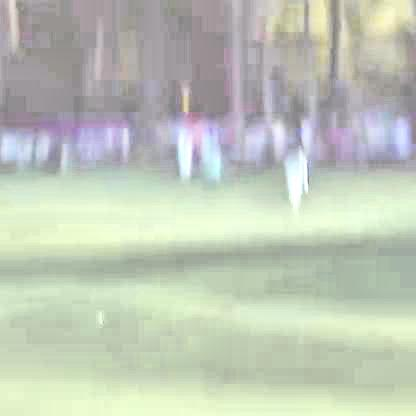golfball: (95, 303, 102, 319)
